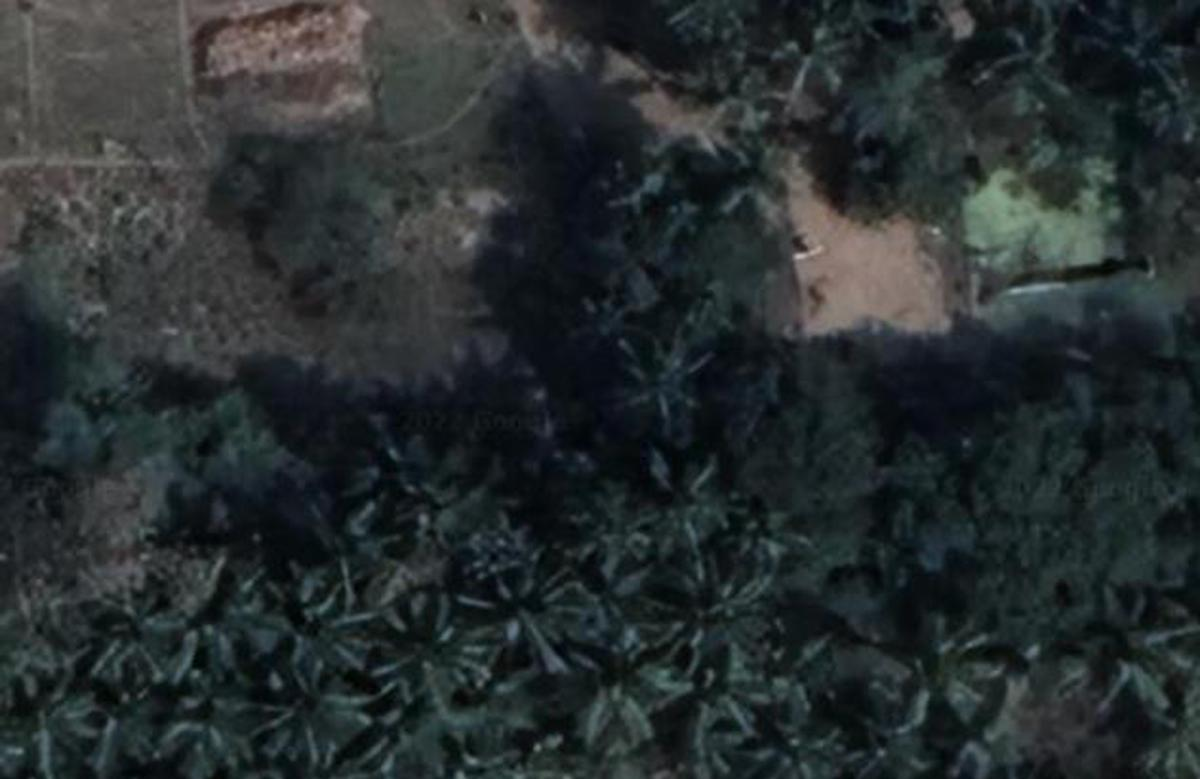coconut: (451, 540, 577, 668), (563, 630, 689, 756), (321, 407, 441, 529), (150, 565, 266, 685), (617, 318, 721, 441), (1080, 582, 1188, 697), (643, 441, 746, 552), (655, 554, 763, 659), (251, 577, 356, 685), (725, 687, 841, 779), (708, 116, 803, 228), (720, 634, 824, 735), (927, 683, 1032, 779), (371, 605, 472, 700), (169, 662, 262, 765), (769, 0, 862, 100), (554, 272, 649, 367), (81, 584, 177, 678), (259, 668, 352, 765), (337, 681, 436, 771), (895, 615, 992, 706), (967, 20, 1059, 110), (1085, 0, 1177, 89), (9, 678, 95, 773), (1120, 681, 1200, 779), (725, 493, 813, 579), (582, 529, 666, 594), (847, 721, 939, 779)
